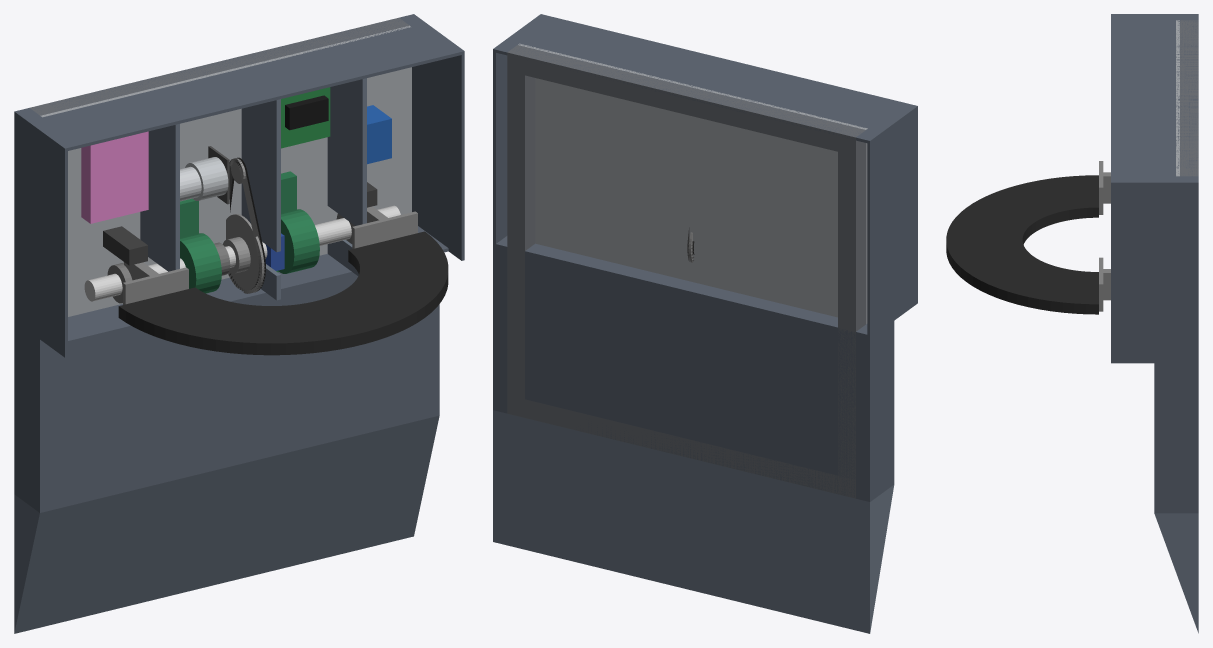
File: PARKFNB_V2S_Shell_cover_off.obj
3 views of the same model, side by side, from view 1: azimuth 30°, elevation 25°; view 2: azimuth 150°, elevation 25°; view 3: azimuth 270°, elevation 25° (orthographic). The views are drawn at different scales.
Visible parts, largest first — view 1: shell_tray, shell_front_ramp, shell_wall, arch_rubber, deck_plate, bulkhead, battery_3s2p, bearing_ucp205, frame, arm_cleat, sprocket_big, shaft_25 (+7 smaller); view 2: shell_tray, shell_front_ramp, deck_plate, shell_wall, frame; view 3: shell_wall, arch_rubber, shell_tray, frame, shell_front_ramp, deck_plate, arm_cleat, swing_arm.
Part boxes in pixels (left/top/right/bottom): shell_tray: left=14, top=274, right=439, bottom=512; shell_front_ramp: left=14, top=415, right=439, bottom=633; shell_wall: left=14, top=14, right=464, bottom=357; arch_rubber: left=118, top=231, right=448, bottom=355; deck_plate: left=40, top=25, right=411, bottom=316; bulkhead: left=140, top=78, right=366, bottom=300; battery_3s2p: left=81, top=131, right=148, bottom=223; bearing_ucp205: left=180, top=171, right=319, bottom=293; frame: left=29, top=17, right=409, bottom=115; arm_cleat: left=123, top=211, right=417, bottom=304; sprocket_big: left=222, top=214, right=264, bottom=292; shaft_25: left=84, top=205, right=400, bottom=301; shell_tray: left=493, top=246, right=894, bottom=501; shell_front_ramp: left=493, top=410, right=894, bottom=633; deck_plate: left=518, top=43, right=867, bottom=323; shell_wall: left=493, top=14, right=917, bottom=338; frame: left=507, top=45, right=866, bottom=498; shell_wall: left=1111, top=14, right=1198, bottom=363; arch_rubber: left=946, top=175, right=1098, bottom=314; shell_tray: left=1154, top=363, right=1198, bottom=513; frame: left=1180, top=20, right=1198, bottom=176; shell_front_ramp: left=1154, top=513, right=1198, bottom=633; deck_plate: left=1176, top=20, right=1179, bottom=176; arm_cleat: left=1099, top=161, right=1103, bottom=311; swing_arm: left=1103, top=172, right=1110, bottom=300.
Bounding box in the file's own units: 530 × 662 × 335.
